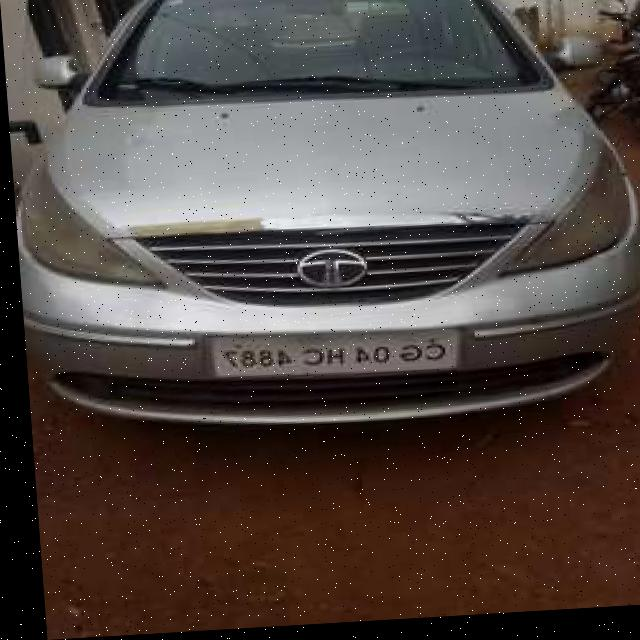plate: (202, 328, 453, 386)
